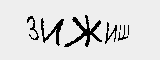Ж: (65, 14, 101, 50)
З: (25, 13, 39, 43)
И: (39, 17, 63, 49), (105, 19, 117, 46)
Ш: (117, 22, 132, 43)
